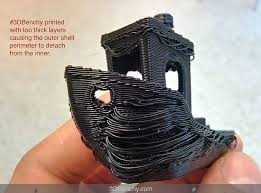fail: (97, 98, 237, 176), (98, 27, 204, 64)
